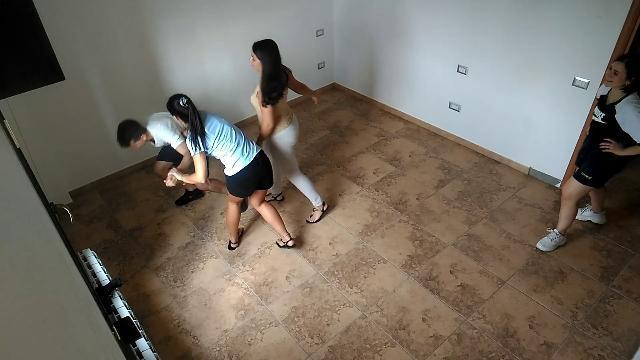non-violence: (536, 52, 640, 252), (247, 38, 331, 224)
violence: (116, 92, 298, 250)
